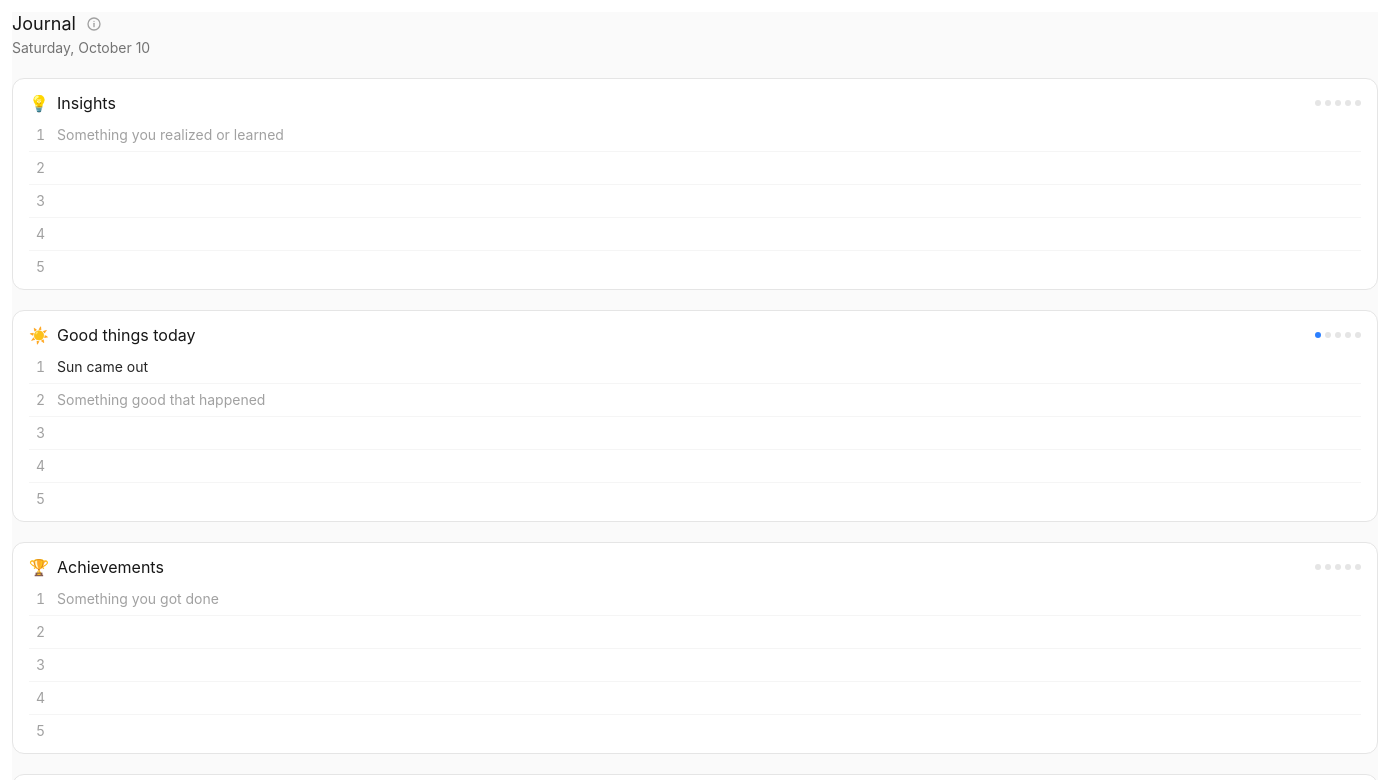
JournalPage › changes a line in place, keeping it on leaving and putting it back on Escape (JRN-4)
Click the field named "Good thing 1".
click(691, 367)  # box [57,351,1325,383]
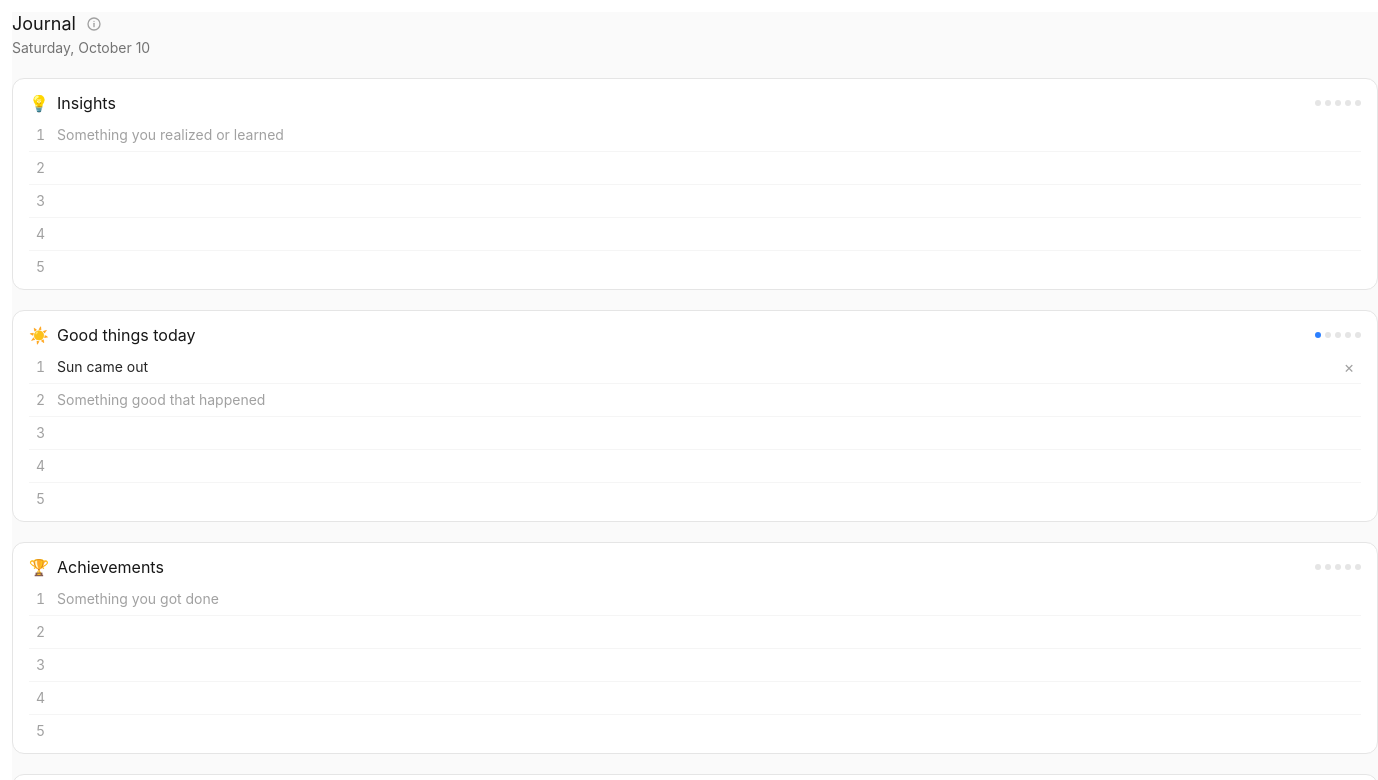
Type keys " again{Escape}"
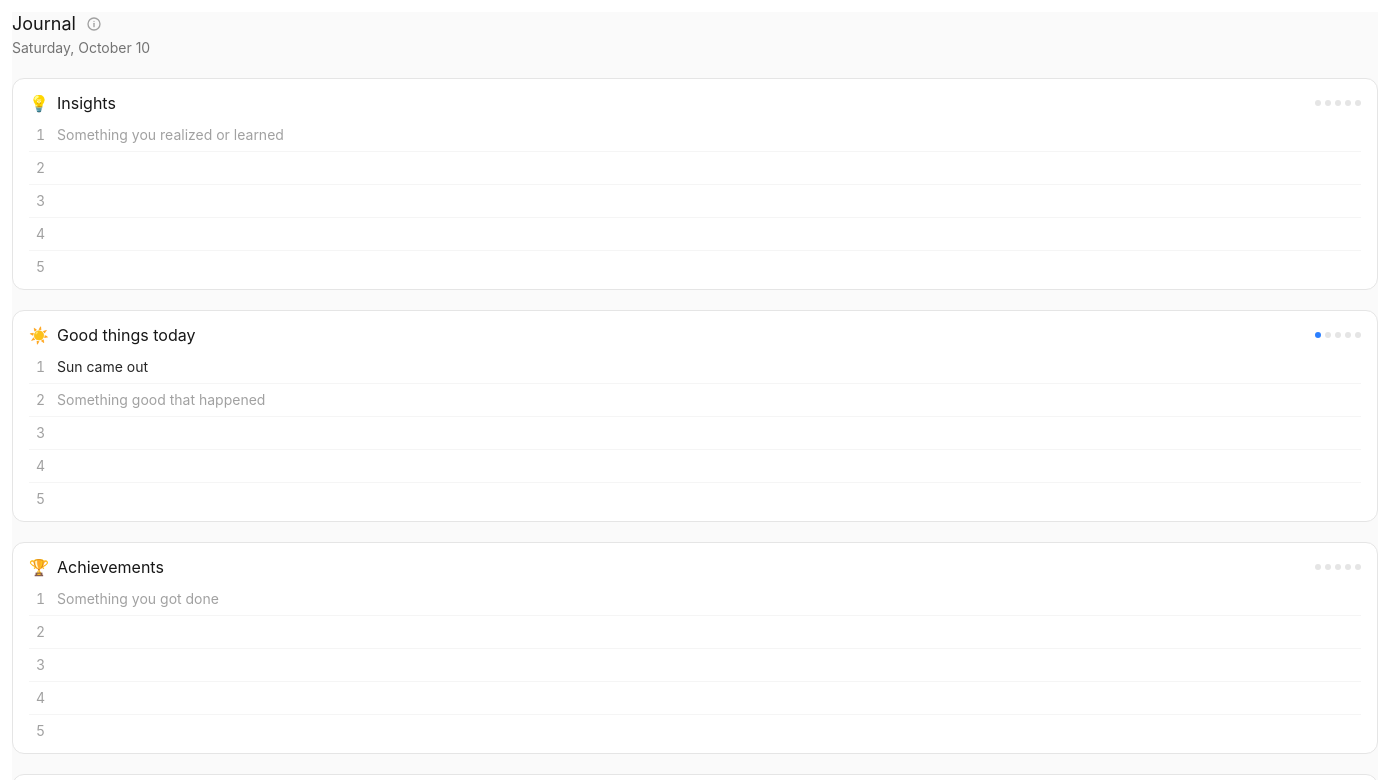
Click the field named "Good thing 1".
click(691, 367)  # box [57,351,1325,383]
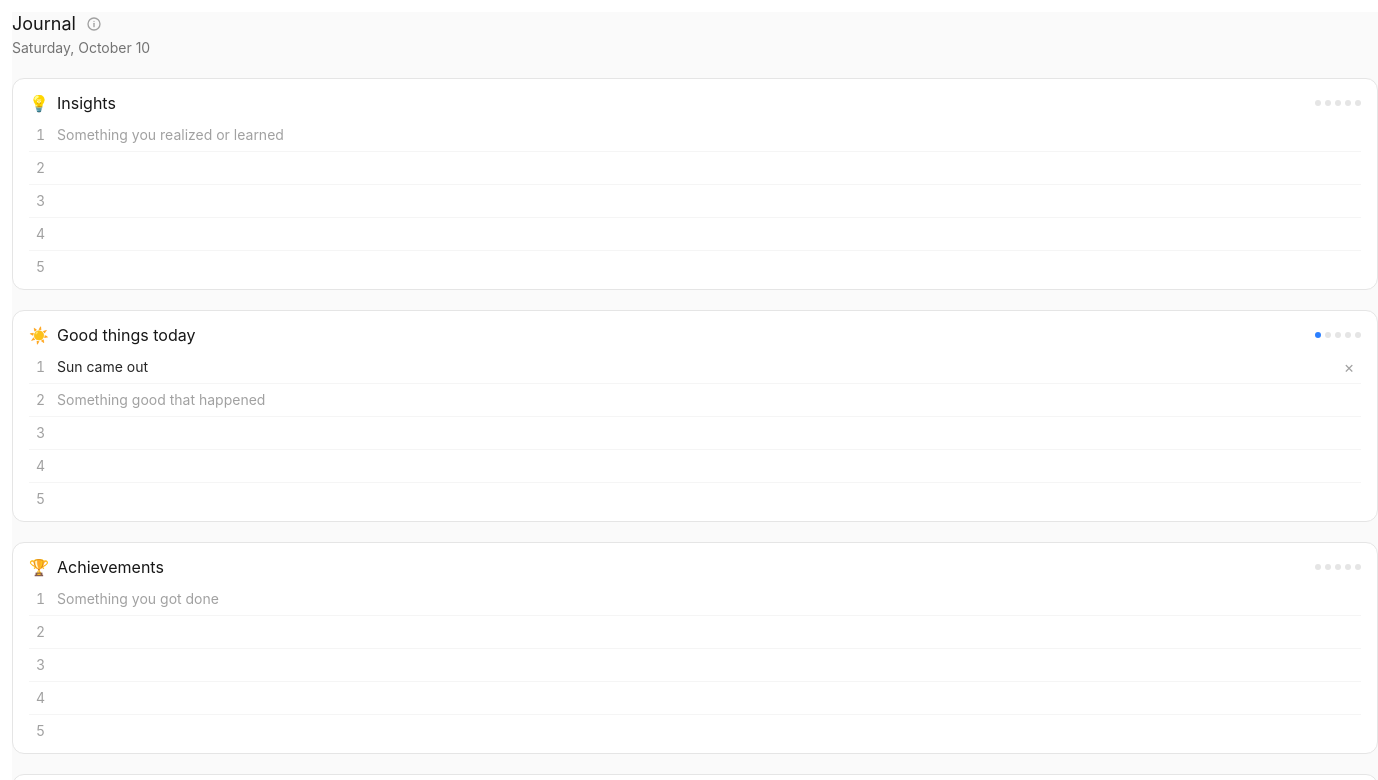
Type keys " again{Enter}"
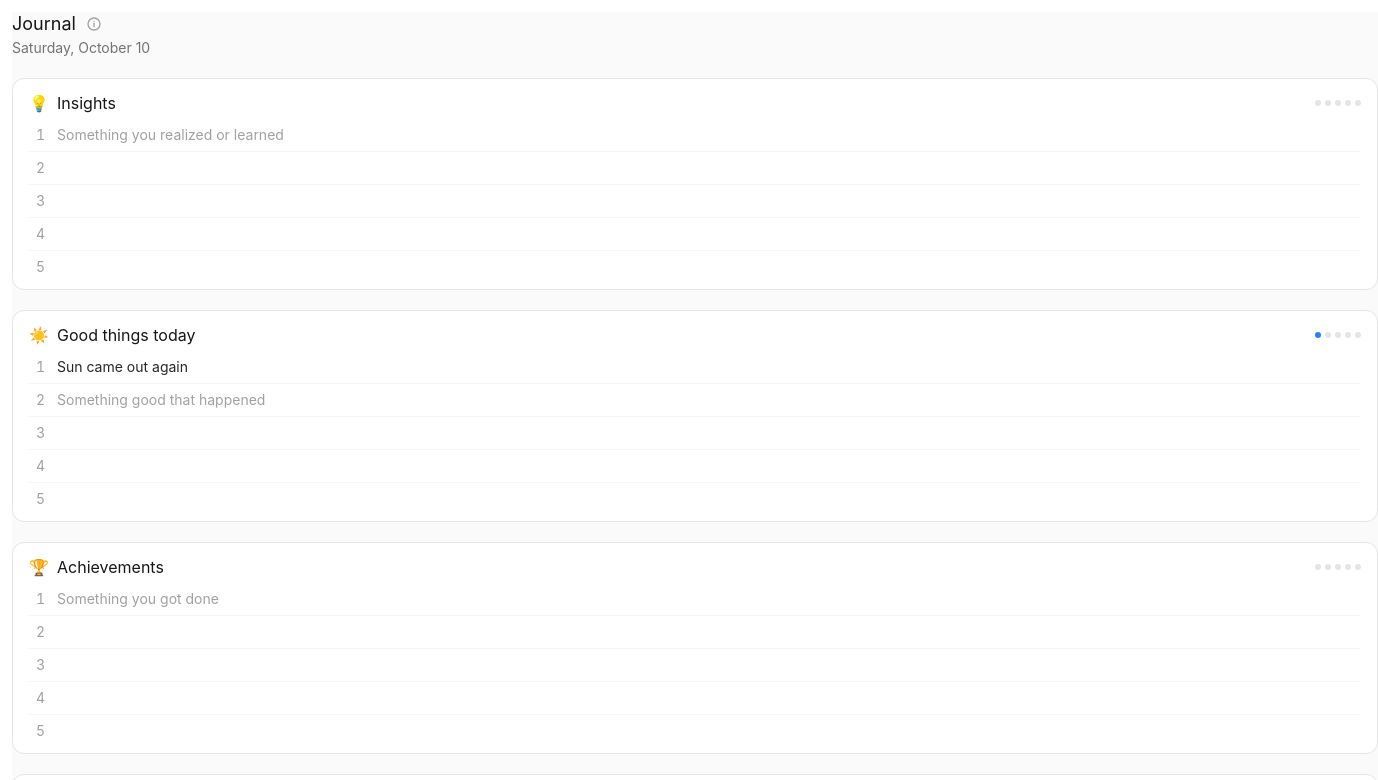
Now the field named "Good thing 1" holds "Sun came out again", box [57,351,1325,383]
